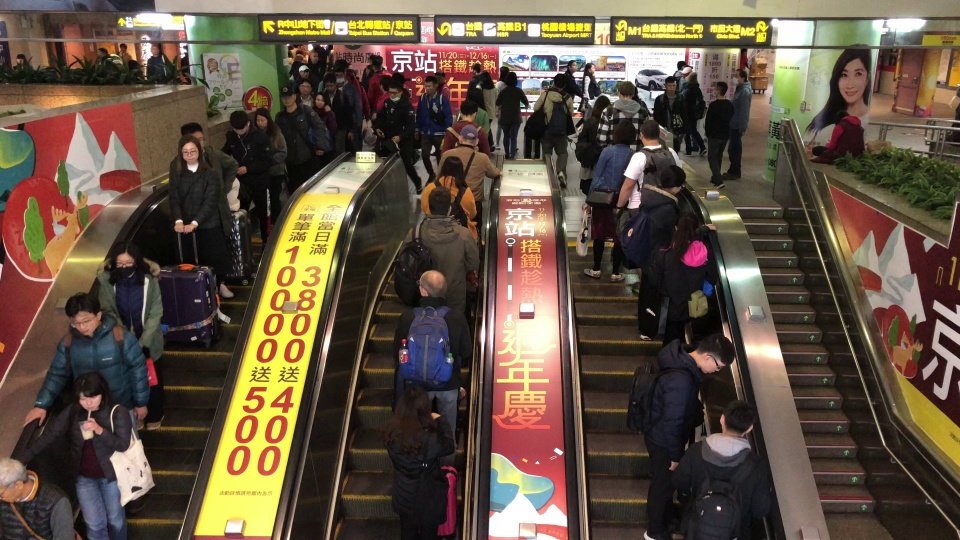person_head: (168, 133, 228, 325), (60, 288, 102, 340), (716, 393, 757, 445), (674, 209, 707, 265), (693, 331, 735, 374), (394, 376, 433, 416), (177, 135, 207, 186), (77, 373, 110, 412), (2, 459, 32, 499), (112, 240, 137, 285), (442, 153, 469, 192), (418, 265, 447, 299), (461, 77, 487, 113), (430, 184, 451, 222), (180, 122, 207, 151), (662, 164, 687, 195), (613, 118, 636, 146), (459, 121, 478, 154), (639, 119, 662, 145), (254, 107, 273, 136), (231, 111, 253, 135), (591, 94, 610, 117), (390, 70, 406, 96), (278, 84, 296, 107), (461, 98, 477, 122), (388, 83, 405, 105), (617, 81, 634, 103), (834, 107, 852, 127), (732, 67, 749, 87), (478, 66, 493, 87), (554, 70, 568, 92), (379, 73, 392, 93), (333, 66, 346, 86), (713, 81, 728, 98), (323, 73, 335, 94), (686, 69, 698, 90), (502, 72, 518, 87), (16, 53, 29, 70), (299, 79, 312, 96), (664, 74, 677, 91), (372, 56, 384, 72), (314, 91, 325, 108), (298, 65, 310, 80), (435, 71, 447, 86), (425, 73, 434, 93), (567, 60, 578, 75), (500, 63, 509, 81), (676, 59, 690, 69), (470, 61, 480, 74), (98, 47, 109, 58), (584, 63, 594, 75), (150, 43, 159, 56), (295, 48, 304, 61), (681, 66, 690, 77), (119, 43, 127, 54), (310, 51, 318, 62), (287, 44, 294, 55), (287, 50, 292, 63)
person_vbox: (16, 284, 151, 463), (632, 326, 737, 540), (393, 263, 474, 468), (676, 391, 776, 540), (94, 235, 168, 432), (382, 366, 457, 538), (613, 115, 683, 294), (181, 119, 243, 300), (62, 368, 127, 540), (436, 110, 504, 261), (399, 184, 479, 310), (660, 210, 727, 360), (637, 162, 692, 340), (584, 118, 638, 282), (220, 110, 274, 267), (1, 446, 75, 540), (274, 82, 330, 195), (375, 85, 426, 197), (420, 156, 482, 242), (534, 72, 576, 188), (578, 94, 617, 217), (596, 76, 652, 154), (254, 106, 285, 234), (417, 68, 451, 184), (722, 64, 753, 189), (439, 97, 494, 157), (495, 70, 530, 164), (705, 79, 734, 189), (654, 72, 684, 160), (334, 65, 363, 148), (460, 75, 491, 151), (682, 66, 707, 160), (826, 107, 866, 164), (478, 62, 500, 155), (493, 56, 510, 156), (351, 65, 373, 138), (388, 69, 415, 128), (313, 89, 338, 142), (338, 59, 363, 111), (465, 58, 489, 112), (145, 43, 176, 84), (369, 56, 393, 102), (364, 54, 391, 93), (322, 75, 345, 117), (362, 51, 385, 92), (581, 60, 602, 104), (288, 48, 315, 79), (375, 71, 392, 118), (564, 58, 581, 104), (294, 63, 317, 96), (948, 82, 960, 143), (434, 67, 452, 101), (296, 79, 316, 108), (679, 64, 693, 97), (321, 43, 333, 77), (117, 43, 133, 67), (12, 52, 31, 72), (671, 57, 691, 76), (96, 45, 113, 66), (315, 41, 326, 72), (740, 46, 749, 73), (297, 42, 309, 62), (284, 47, 293, 69), (328, 46, 334, 67), (345, 58, 353, 70)
